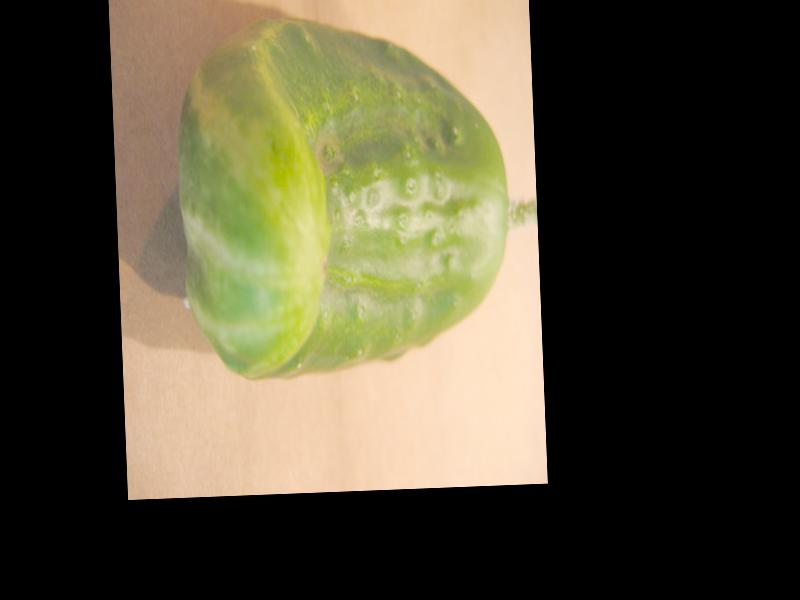Cucumber: (173, 13, 516, 385)
